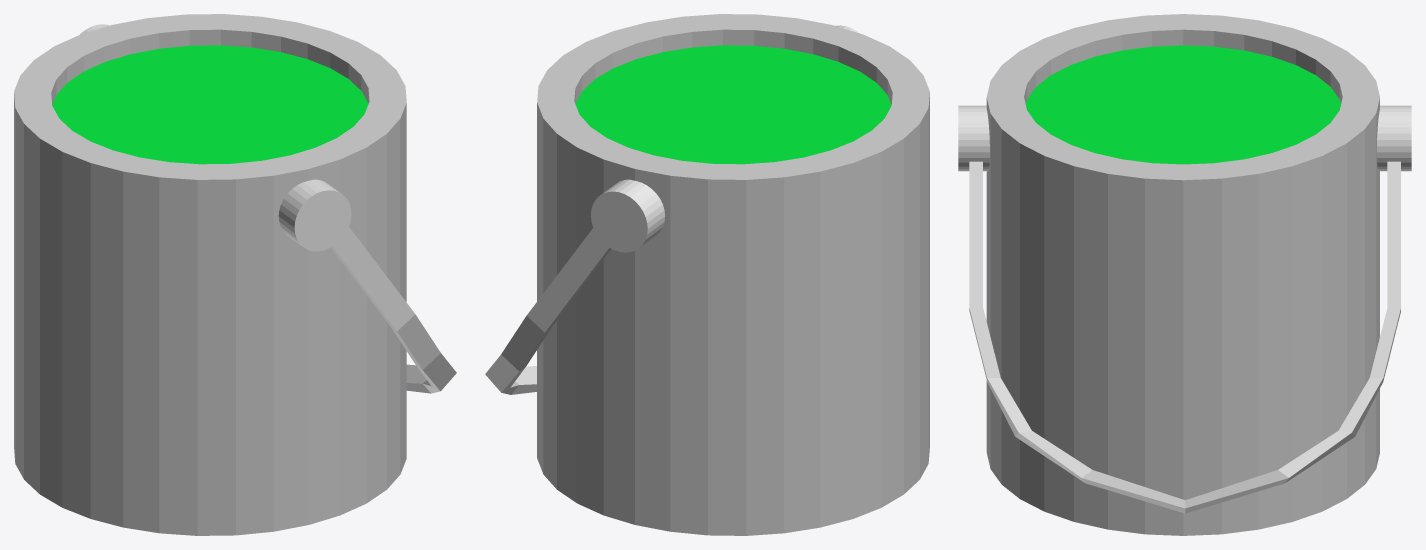
The model's file is paint_pot.fbx.
3 views of the same model, side by side, from view 1: azimuth 30°, elevation 25°; view 2: azimuth 150°, elevation 25°; view 3: azimuth 270°, elevation 25° (orthographic).
Visible parts, largest first — view 1: Cylinder, Cylinder.001, Cube, Cylinder.002; view 2: Cylinder, Cylinder.001, Cube, Cylinder.003; view 3: Cylinder, Cylinder.001, Cube, Cylinder.003, Cylinder.002.
Part boxes in pixels (x1,y1,x2,y2): Cylinder: (14,14,406,535); Cylinder.001: (52,45,368,164); Cube: (331,227,456,393); Cylinder.002: (278,179,351,251); Cylinder: (537,14,929,535); Cylinder.001: (575,45,891,164); Cube: (485,228,611,394); Cylinder.003: (591,179,665,252); Cylinder: (986,14,1379,535); Cylinder.001: (1026,45,1340,164); Cube: (969,161,1400,513); Cylinder.003: (1376,105,1411,171); Cylinder.002: (958,105,989,171).
Size of the model in its own units: 21.34 by 20.19 by 23.33.
